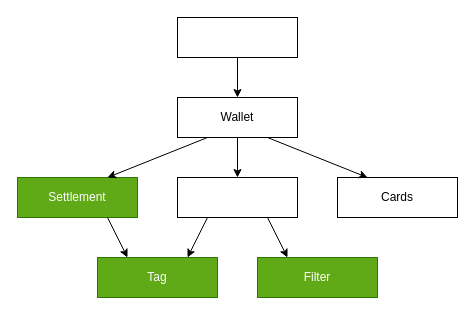
Some shapes in this 475 by 315 pixel diagram are drawn without their labels. The centre of each missing label's shape, as x and y in pixels:
"Rule" goes at (237,197).
"User" goes at (237,37).
